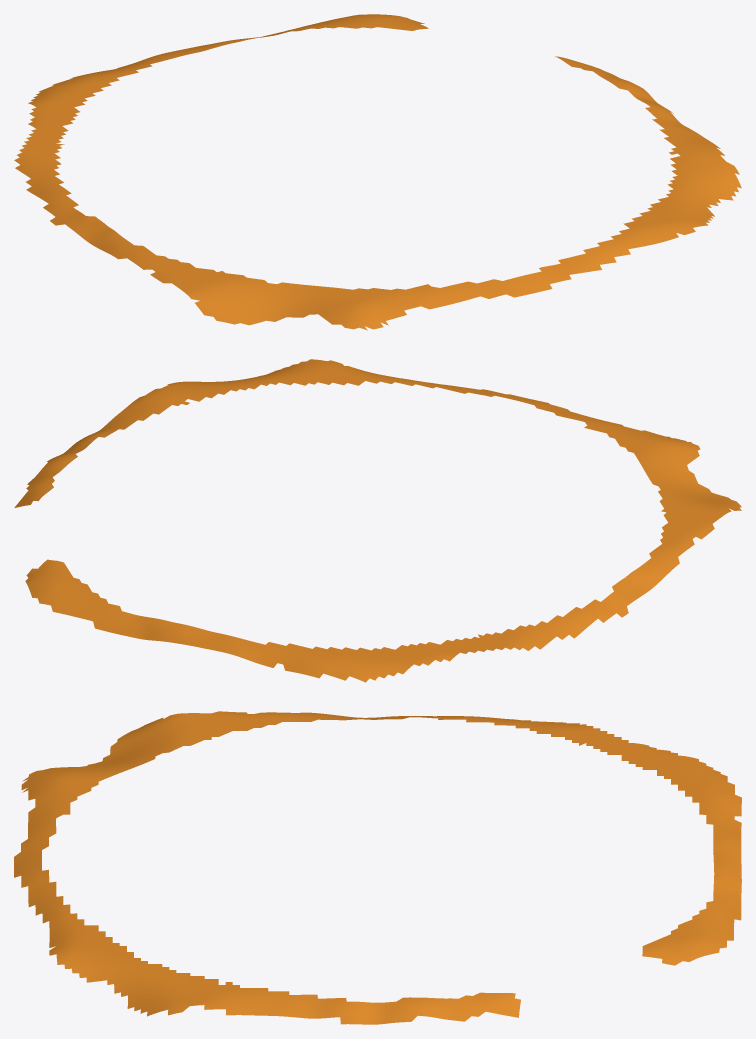
File: for-stone.glb
3 renders of one model, top to bottom at view 1: azimuth 30°, elevation 25°; view 2: azimuth 150°, elevation 25°; view 3: azimuth 270°, elevation 25°, orthographic. The views are drawn at different scales.
Parts seen in each view (by area): view 1: for-stone; view 2: for-stone; view 3: for-stone.
Part boxes in pixels (x1=…): for-stone: x1=14, y1=14, x2=741, y2=330; for-stone: x1=14, y1=359, x2=741, y2=682; for-stone: x1=14, y1=711, x2=741, y2=1024.
Size of the model in its own units: 27.58 by 0.7662 by 27.58.
